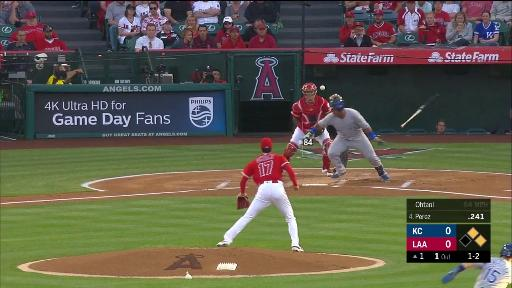pitcher: (218, 137, 304, 254)
